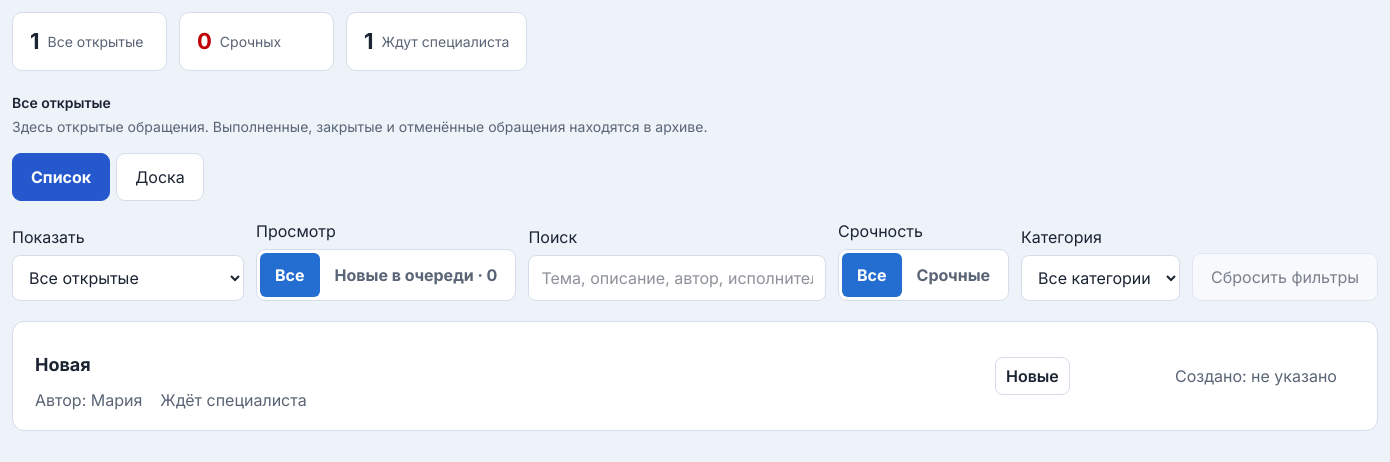
Test case: explains an empty filtered list and resets the archive as well
This screenshot has width=1390, height=462.
Select "Закрытые — архив" in the dropdown labelled "Показать" at coordinates (128, 278), box left=12, top=255, right=244, bottom=301
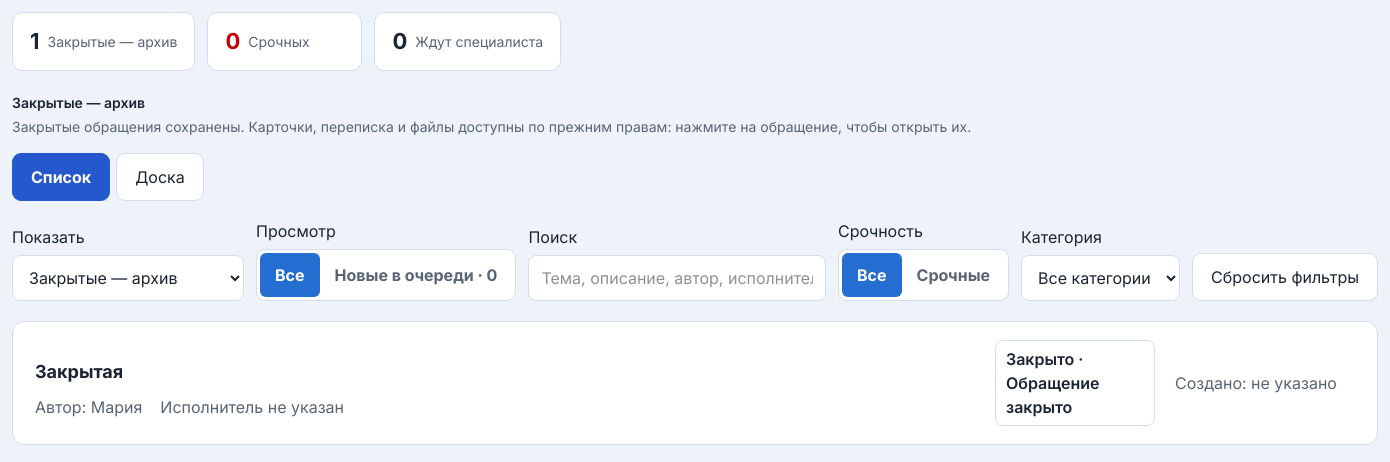
Now the button with aria-label "Открыть обращение «Закрытая»" is shown, box left=35, top=347, right=123, bottom=395
Type "не существует" into the field named "Поиск обращений" at coordinates (677, 278), box left=528, top=255, right=826, bottom=301
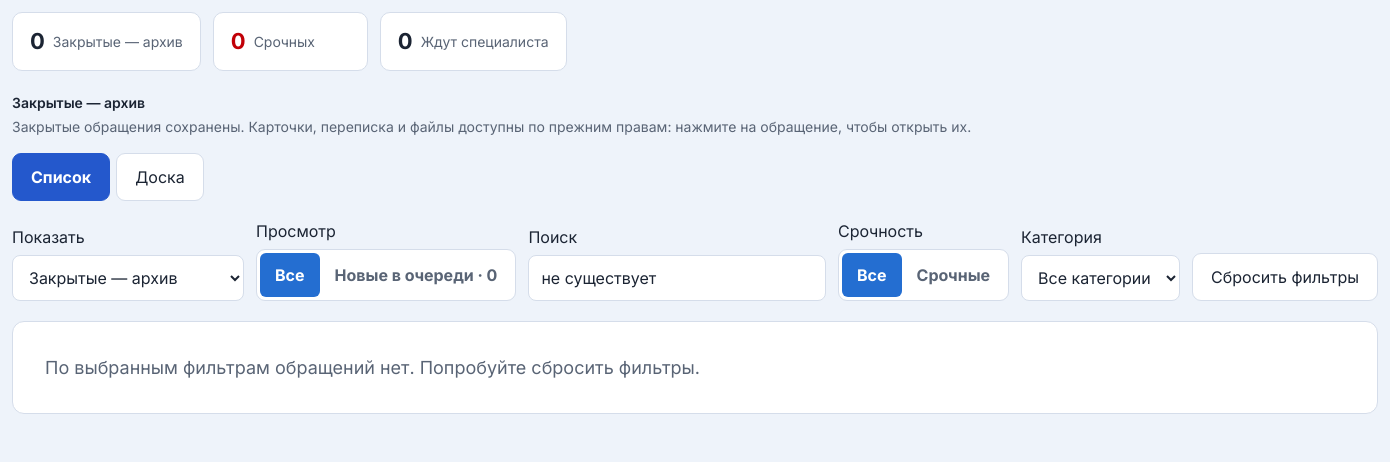
Now the text "По выбранным фильтрам обращений нет" is shown, box left=45, top=357, right=700, bottom=378
Click the button "Сбросить фильтры" at coordinates (1285, 277), box left=1192, top=253, right=1378, bottom=301
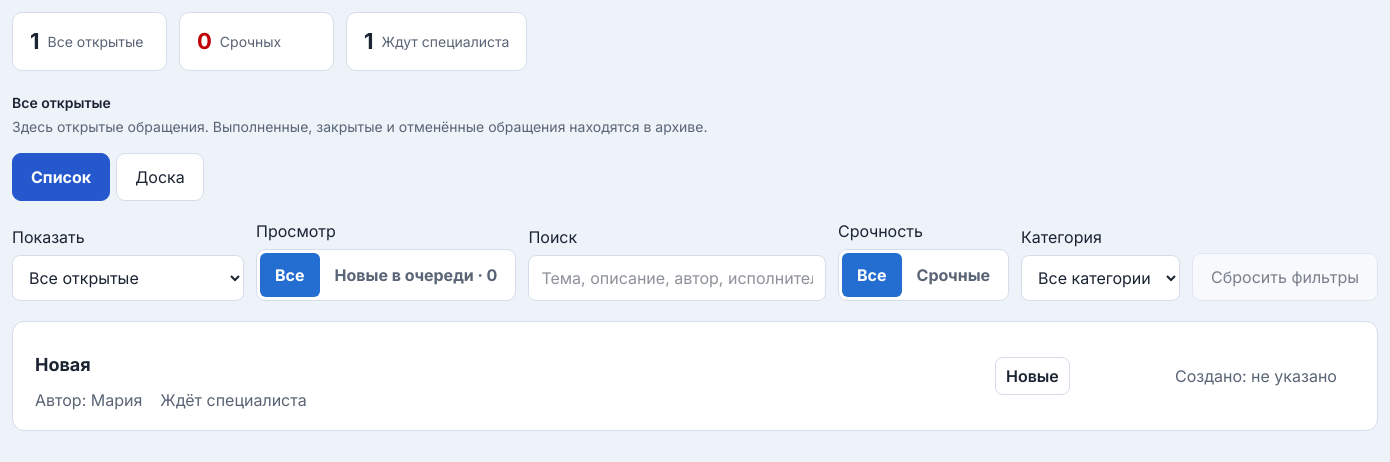
Now the button with aria-label "Открыть обращение «Новая»" is shown, box left=35, top=340, right=91, bottom=388
